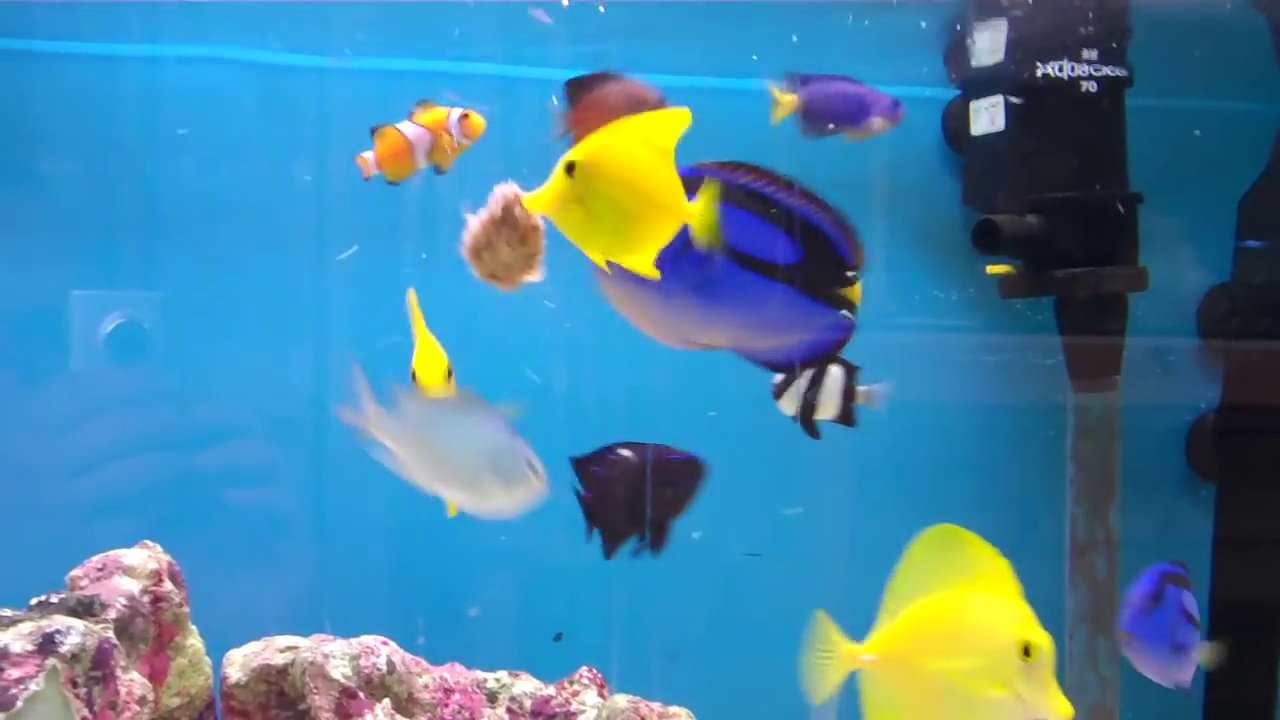blue tang surgeonfish: (600, 147, 869, 391), (1110, 547, 1207, 695)
saddle butterfly fish: (801, 495, 1091, 720), (512, 91, 734, 287)
